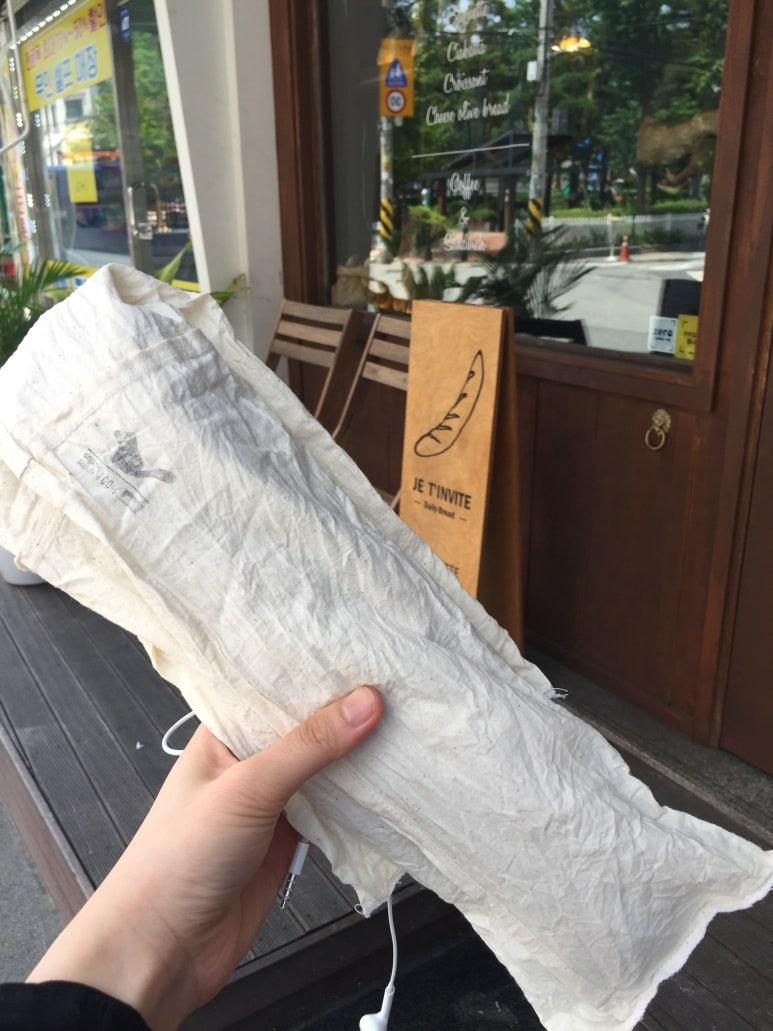Lunch Box: (0, 266, 772, 1030)
